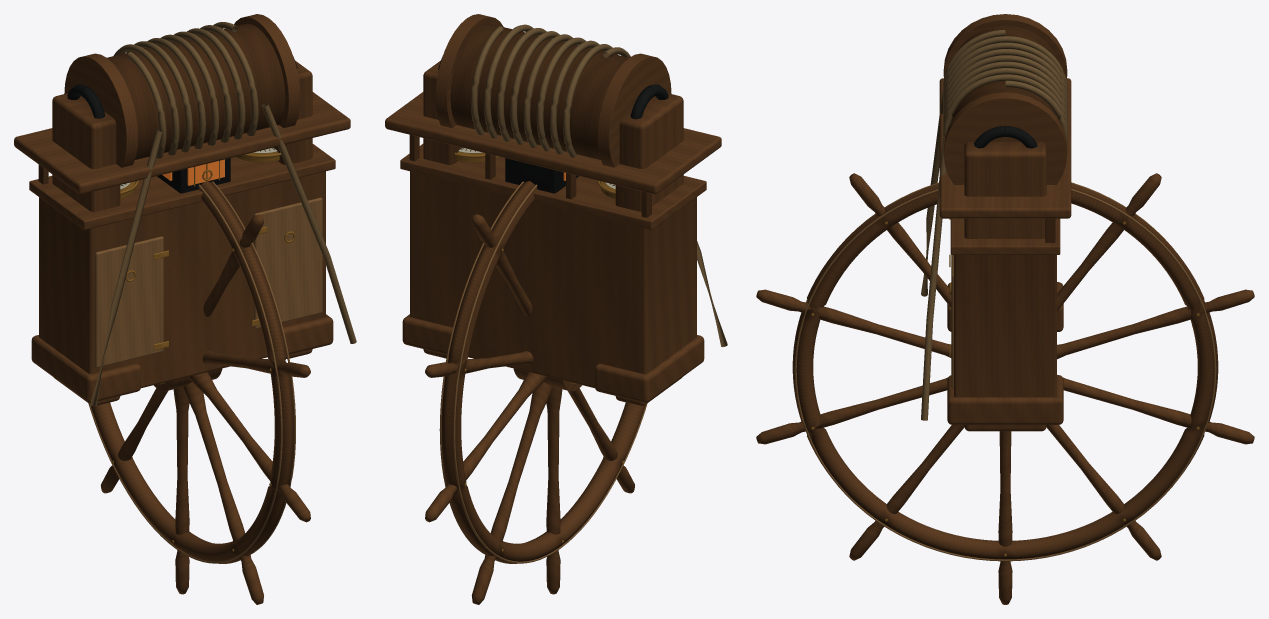
File: quarterdeck-fittings.glb
3 views of the same model, side by side, from view 1: azimuth 30°, elevation 25°; view 2: azimuth 150°, elevation 25°; view 3: azimuth 270°, elevation 25° (orthographic).
Visible parts, largest first — view 1: authored_binnacle · Hand-worn oak, authored_wheel_stand · Hand-worn oak, authored_binnacle · Cut oak end grain, authored_wheel · Hand-worn oak, authored_wheel_stand · Laid hemp, Spoke and hand grip.004, authored_wheel · Cut oak end grain, Spoke and hand grip.005, Spoke and hand grip.003, Spoke and hand grip.006, Spoke and hand grip.002, Spoke and hand grip.001 (+4 smaller); view 2: authored_binnacle · Hand-worn oak, authored_wheel_stand · Hand-worn oak, authored_wheel · Hand-worn oak, authored_wheel_stand · Laid hemp, Spoke and hand grip.006, authored_wheel · Cut oak end grain, Spoke and hand grip.005, Spoke and hand grip.007, Central lamp locker, Spoke and hand grip.004, Spoke and hand grip.008, Spoke and hand grip.009 (+2 smaller); view 3: authored_binnacle · Hand-worn oak, authored_wheel · Hand-worn oak, authored_wheel_stand · Hand-worn oak, authored_wheel_stand · Laid hemp, authored_wheel · Cut oak end grain, Spoke and hand grip.008, Spoke and hand grip.002, Spoke and hand grip.007, Spoke and hand grip.003, Spoke and hand grip.005, Spoke and hand grip.004, Spoke and hand grip.006 (+3 smaller).
Boxes of the visible parts, x1=… form: authored_binnacle · Hand-worn oak: x1=14, y1=92, x2=350, y2=387; authored_wheel_stand · Hand-worn oak: x1=31, y1=14, x2=333, y2=405; authored_binnacle · Cut oak end grain: x1=95, y1=197, x2=322, y2=367; authored_wheel · Hand-worn oak: x1=90, y1=181, x2=294, y2=563; authored_wheel_stand · Laid hemp: x1=90, y1=22, x2=356, y2=406; Spoke and hand grip.004: x1=183, y1=382, x2=263, y2=604; authored_wheel · Cut oak end grain: x1=88, y1=181, x2=295, y2=563; Spoke and hand grip.005: x1=173, y1=387, x2=189, y2=594; Spoke and hand grip.003: x1=189, y1=372, x2=310, y2=522; Spoke and hand grip.006: x1=100, y1=388, x2=167, y2=493; Spoke and hand grip.002: x1=202, y1=351, x2=310, y2=377; Spoke and hand grip.001: x1=203, y1=214, x2=263, y2=316; authored_binnacle · Hand-worn oak: x1=385, y1=92, x2=721, y2=388; authored_wheel_stand · Hand-worn oak: x1=402, y1=14, x2=704, y2=405; authored_wheel · Hand-worn oak: x1=441, y1=181, x2=645, y2=563; authored_wheel_stand · Laid hemp: x1=470, y1=24, x2=727, y2=347; Spoke and hand grip.006: x1=471, y1=382, x2=552, y2=604; authored_wheel · Cut oak end grain: x1=439, y1=181, x2=647, y2=563; Spoke and hand grip.005: x1=546, y1=387, x2=562, y2=594; Spoke and hand grip.007: x1=425, y1=372, x2=546, y2=522; Central lamp locker: x1=505, y1=158, x2=578, y2=193; Spoke and hand grip.004: x1=568, y1=388, x2=634, y2=493; Spoke and hand grip.008: x1=425, y1=351, x2=533, y2=377; Spoke and hand grip.009: x1=471, y1=214, x2=532, y2=316; authored_binnacle · Hand-worn oak: x1=939, y1=78, x2=1071, y2=397; authored_wheel · Hand-worn oak: x1=792, y1=183, x2=1218, y2=559; authored_wheel_stand · Hand-worn oak: x1=943, y1=14, x2=1067, y2=431; authored_wheel_stand · Laid hemp: x1=921, y1=29, x2=1067, y2=420; authored_wheel · Cut oak end grain: x1=794, y1=182, x2=1216, y2=561; Spoke and hand grip.008: x1=1057, y1=289, x2=1254, y2=359; Spoke and hand grip.002: x1=756, y1=289, x2=951, y2=357; Spoke and hand grip.007: x1=1063, y1=377, x2=1254, y2=444; Spoke and hand grip.003: x1=756, y1=377, x2=947, y2=444; Spoke and hand grip.005: x1=998, y1=431, x2=1012, y2=604; Spoke and hand grip.004: x1=849, y1=425, x2=964, y2=560; Spoke and hand grip.006: x1=1046, y1=425, x2=1161, y2=560.
Size of the model in its own units: 1.15 by 2.24 by 1.84.
8 materials, 7 textured.
